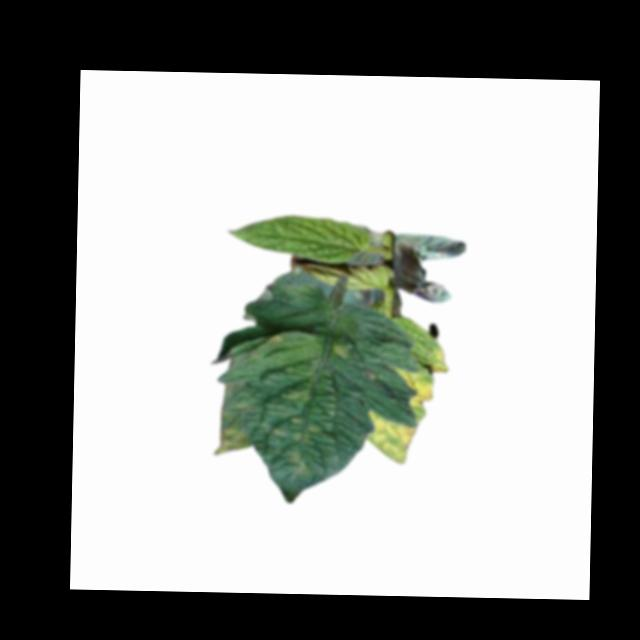Leaf_Mold: (272, 380, 323, 477), (364, 410, 417, 465), (391, 362, 435, 408), (209, 421, 255, 459), (331, 333, 361, 365), (268, 331, 285, 349)
